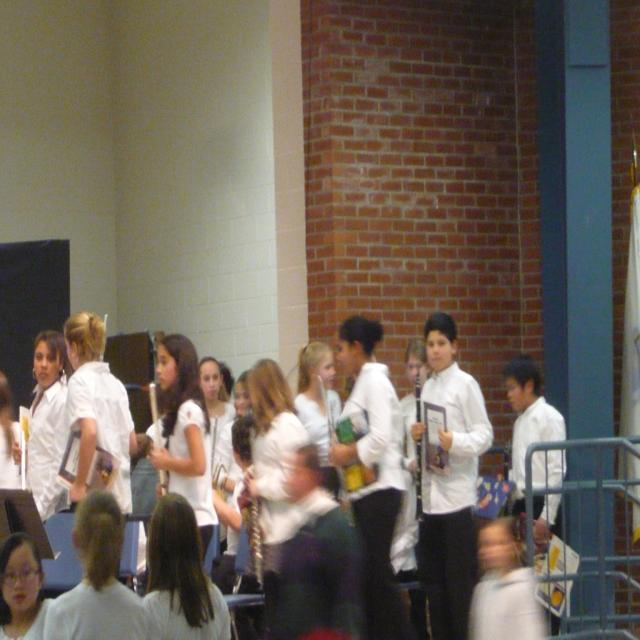clarinet: (408, 376, 430, 530)
